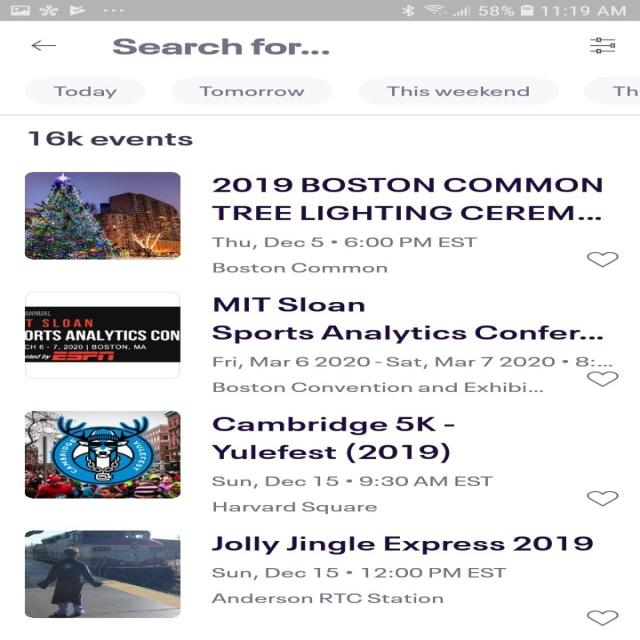Icon: (585, 490, 619, 507), (585, 609, 619, 626), (585, 371, 618, 387), (586, 252, 618, 267), (588, 37, 616, 54), (30, 40, 57, 51)
Image: (23, 171, 180, 260), (23, 529, 180, 618), (23, 291, 180, 379), (23, 411, 180, 498)
Text: (212, 297, 602, 343), (210, 178, 602, 220), (213, 356, 612, 392), (210, 416, 454, 463), (212, 475, 494, 514), (210, 567, 506, 603), (210, 236, 478, 272), (211, 536, 593, 554), (112, 38, 330, 55), (27, 131, 193, 146)
TextButton: (357, 76, 559, 105), (170, 77, 332, 105), (25, 76, 146, 105), (583, 77, 638, 105)
